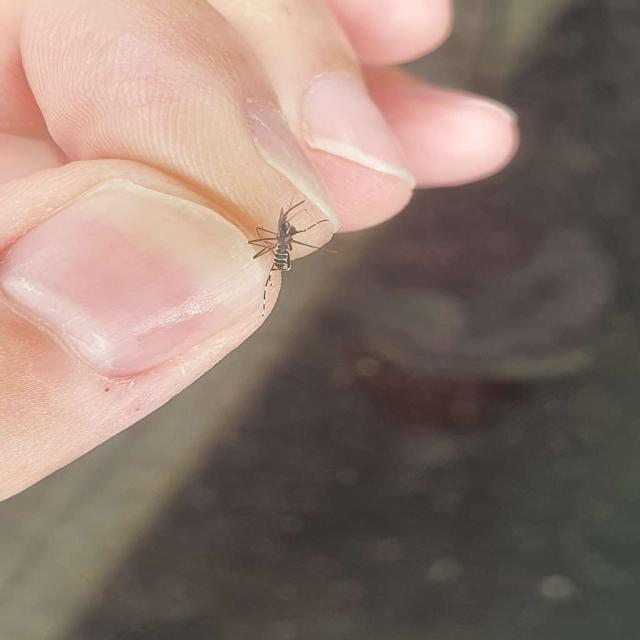albopictus: (226, 195, 340, 324)
